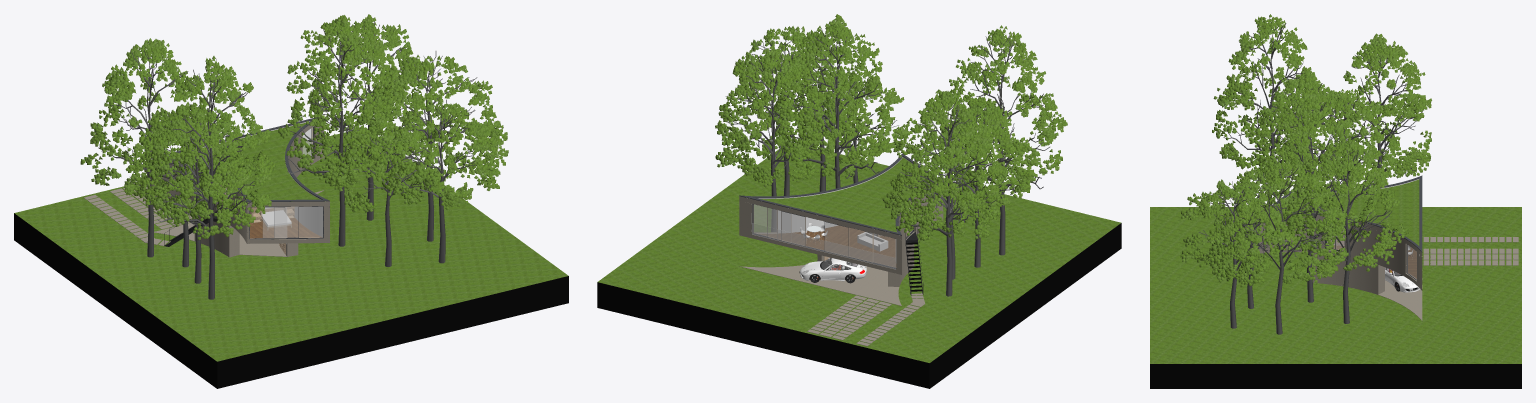
The model's file is demo_house_pbr.glb.
3 renders of one model, left to right at view 1: azimuth 30°, elevation 25°; view 2: azimuth 150°, elevation 25°; view 3: azimuth 270°, elevation 25°, orthographic. The views are drawn at different scales.
Visible parts, largest first — view 1: Slab, Object, Wall, Window; view 2: Slab, Object, Wall, Window, Stair; view 3: Slab, Object, Wall, Window.
Part boxes in pixels (<box>): Slab: <box>14,122,568,388</box>; Object: <box>80,14,508,299</box>; Wall: <box>152,116,329,257</box>; Window: <box>217,127,323,239</box>; Slab: <box>597,142,1121,388</box>; Object: <box>715,14,1067,296</box>; Wall: <box>739,153,943,286</box>; Window: <box>752,204,913,268</box>; Stair: <box>905,241,922,294</box>; Slab: <box>1150,179,1521,388</box>; Object: <box>1180,14,1431,334</box>; Wall: <box>1259,175,1422,294</box>; Window: <box>1325,222,1416,280</box>.
Bounding box in the file's own units: 27 × 19.55 × 27.
40 materials, 6 textured.
